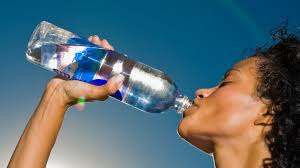Botella: (26, 22, 190, 112)
